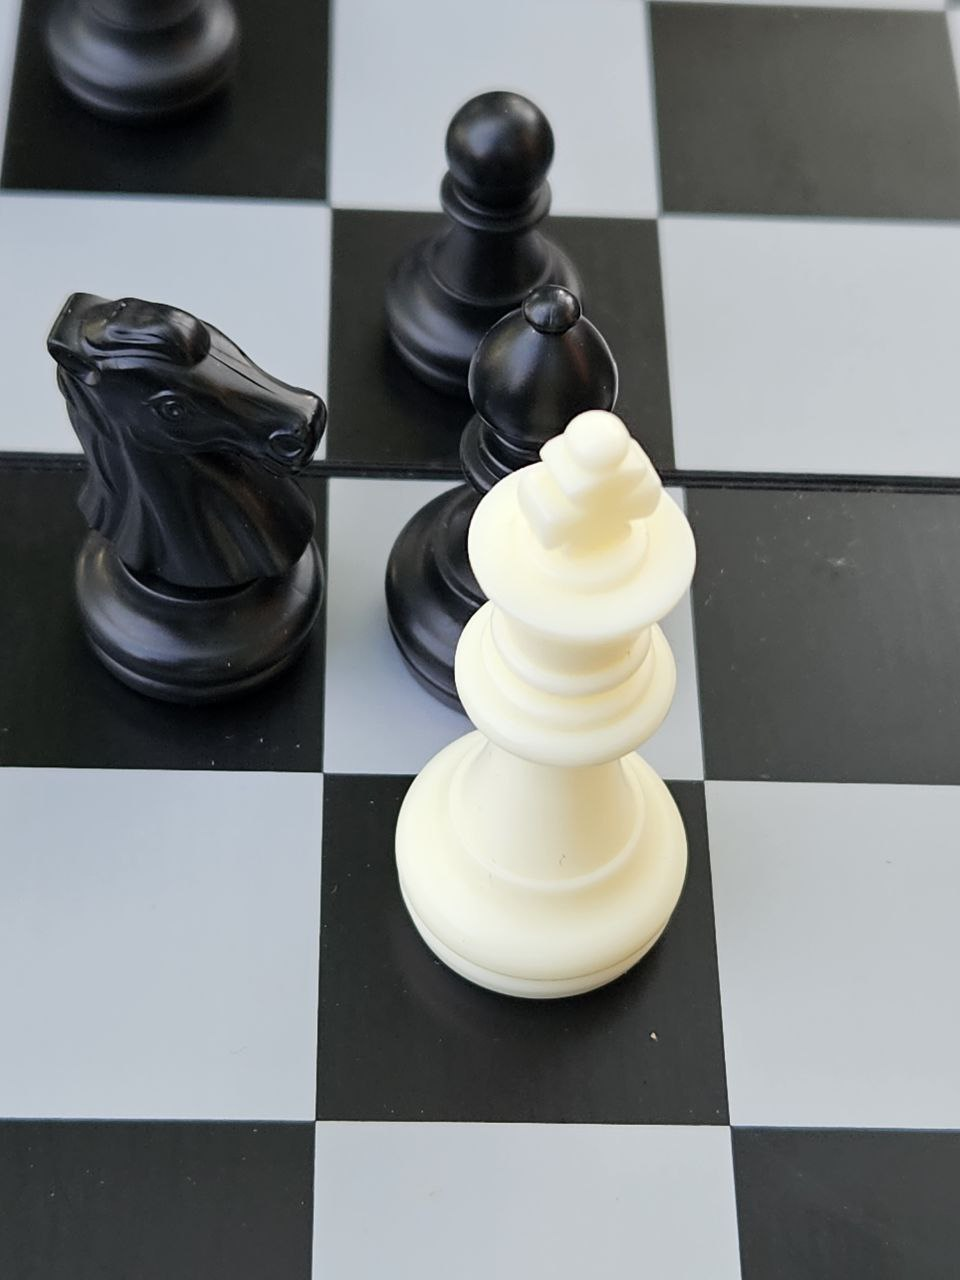BB: (391, 268, 595, 735)
BN: (39, 273, 332, 714)
BP: (368, 43, 625, 395)
WK: (385, 408, 732, 1020)
